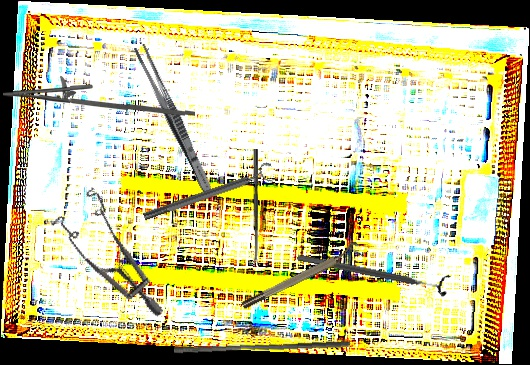Dressing Forceps: (130, 42, 218, 198)
Fixation Ring: (237, 239, 365, 312), (140, 161, 277, 226), (295, 245, 451, 299)
Needle Holder: (2, 72, 196, 121)
Pusher: (173, 333, 351, 360)
Speculum: (34, 177, 198, 319)
Surgical Spoon: (253, 149, 258, 265)
